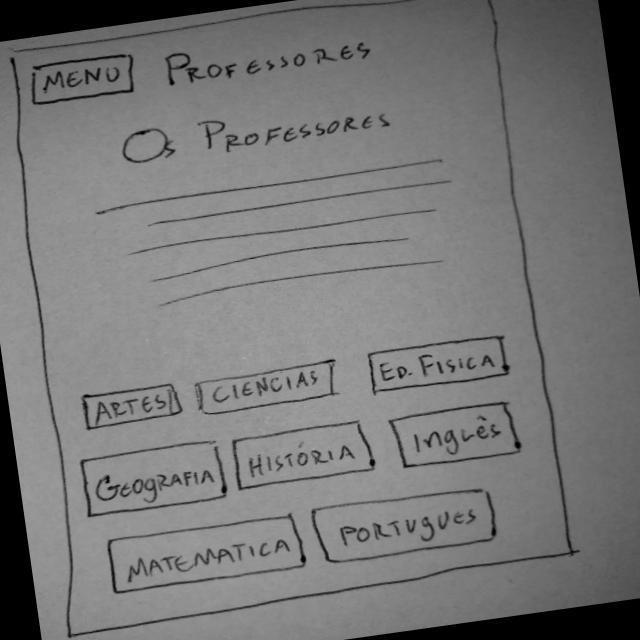button: (105, 511, 314, 598), (304, 482, 505, 569), (77, 439, 232, 521), (228, 418, 380, 493), (391, 398, 531, 473), (363, 332, 516, 399), (192, 356, 350, 420), (26, 49, 145, 112), (80, 381, 190, 435)
container: (1, 1, 584, 638)
label: (110, 94, 416, 177), (161, 24, 389, 96)
textbox: (93, 154, 473, 322)
